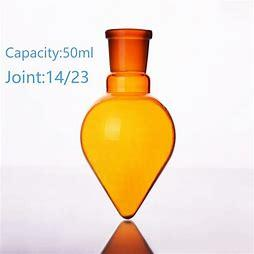Pear shaped flask: (59, 28, 172, 218)
